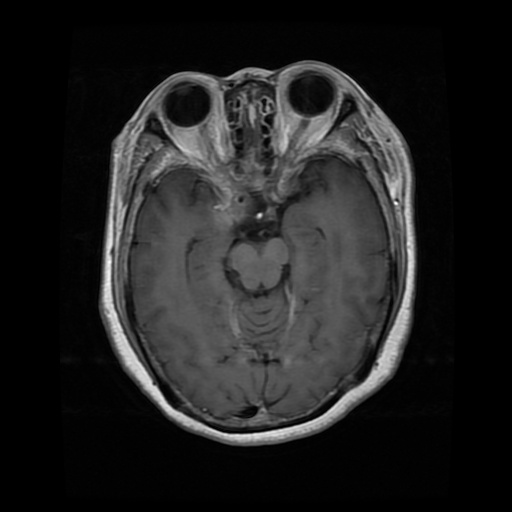meningioma: (209, 209, 235, 233)
